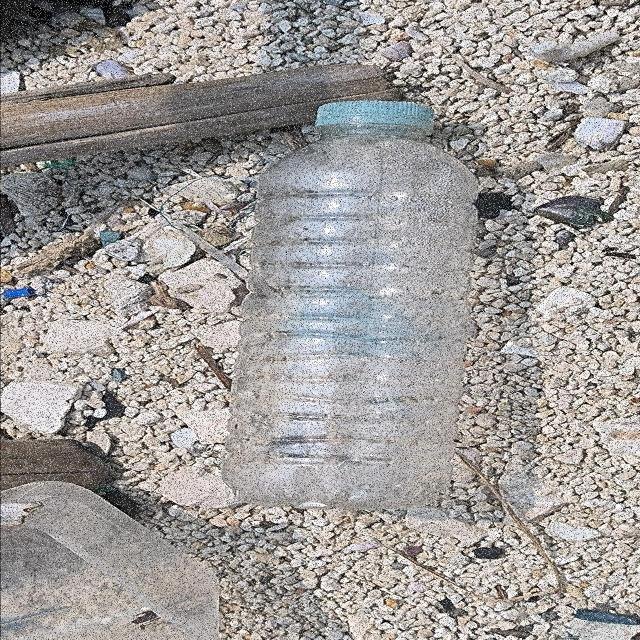plastic_waste: (218, 101, 482, 513)
